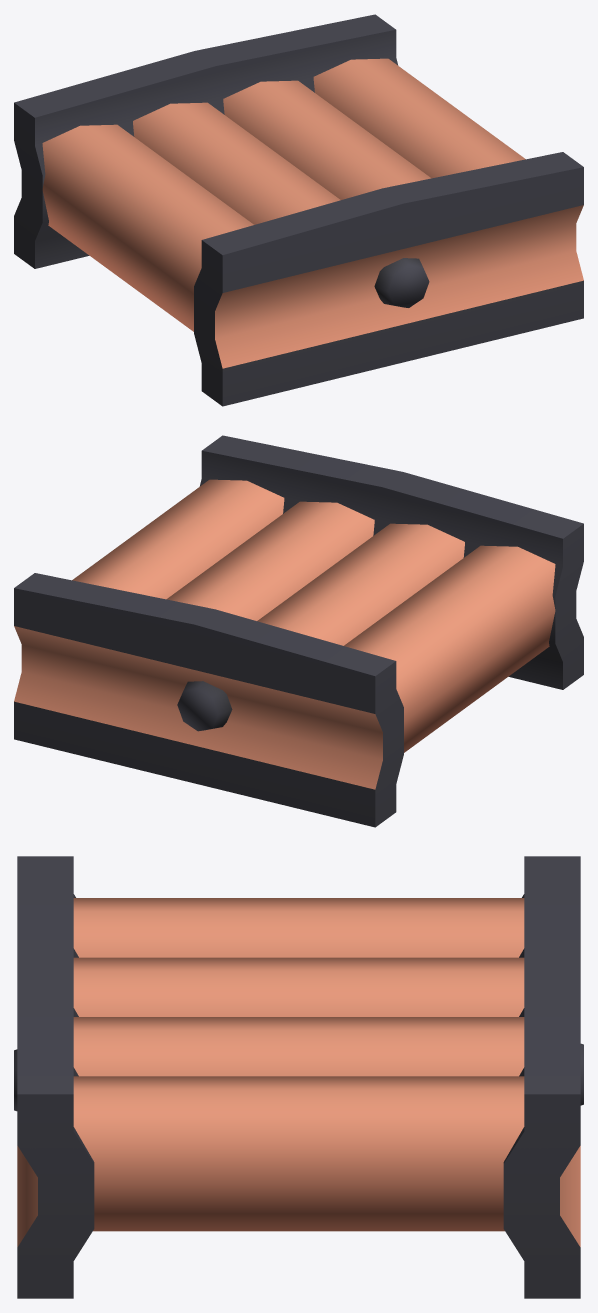
Rendered from conveyor-bars-high.obj.
3 renders of one model, top to bottom at view 1: azimuth 30°, elevation 25°; view 2: azimuth 150°, elevation 25°; view 3: azimuth 270°, elevation 25°, orthographic. The views are drawn at different scales.
Visible parts, largest first — view 1: conveyor-bars-high; view 2: conveyor-bars-high; view 3: conveyor-bars-high.
Part boxes in pixels (left/top/right/bottom): conveyor-bars-high: left=14, top=14, right=583, bottom=406; conveyor-bars-high: left=14, top=435, right=583, bottom=827; conveyor-bars-high: left=14, top=856, right=583, bottom=1298.
Size of the model in its own units: 1 by 0.42 by 1.01.
